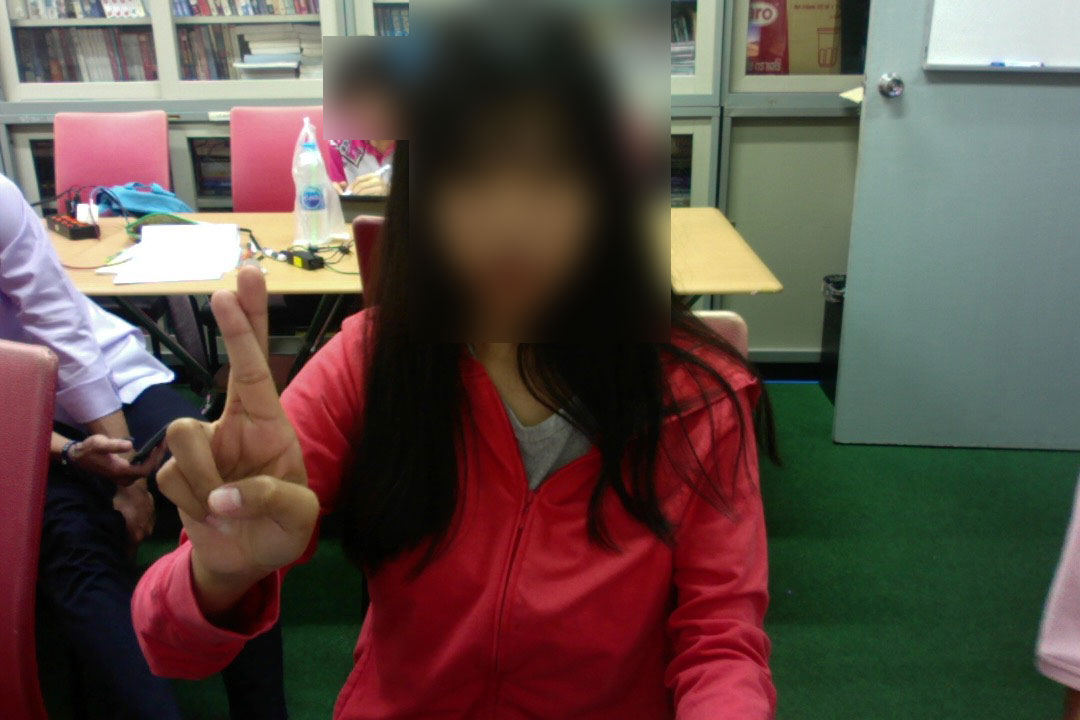rao: (137, 270, 328, 590)
